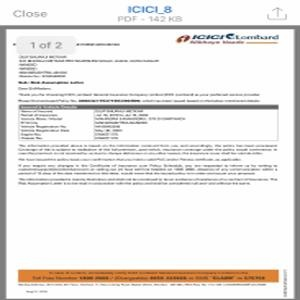image: (174, 30, 281, 47)
table: (19, 104, 282, 142)
text: (18, 55, 265, 105), (19, 143, 282, 187)
